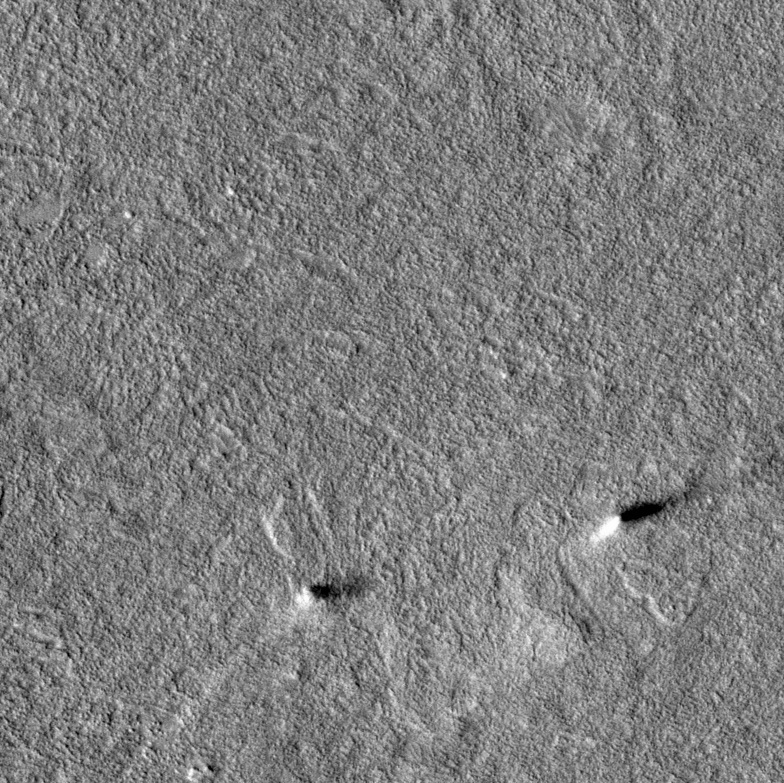dust_devil: (588, 496, 675, 544), (294, 573, 384, 612)
